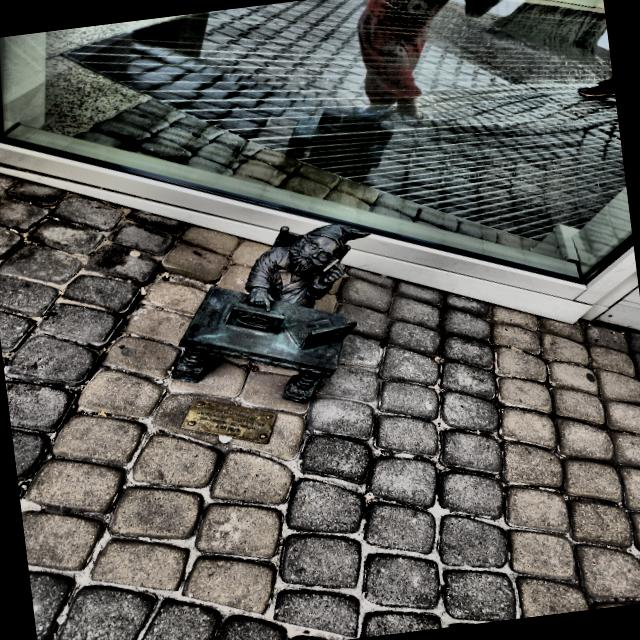WIZek: (172, 223, 368, 403)
